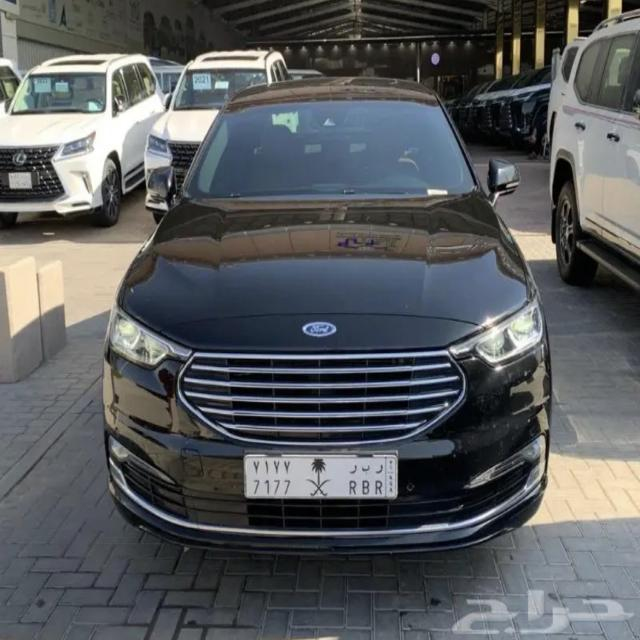license_plate: (242, 451, 402, 509)
